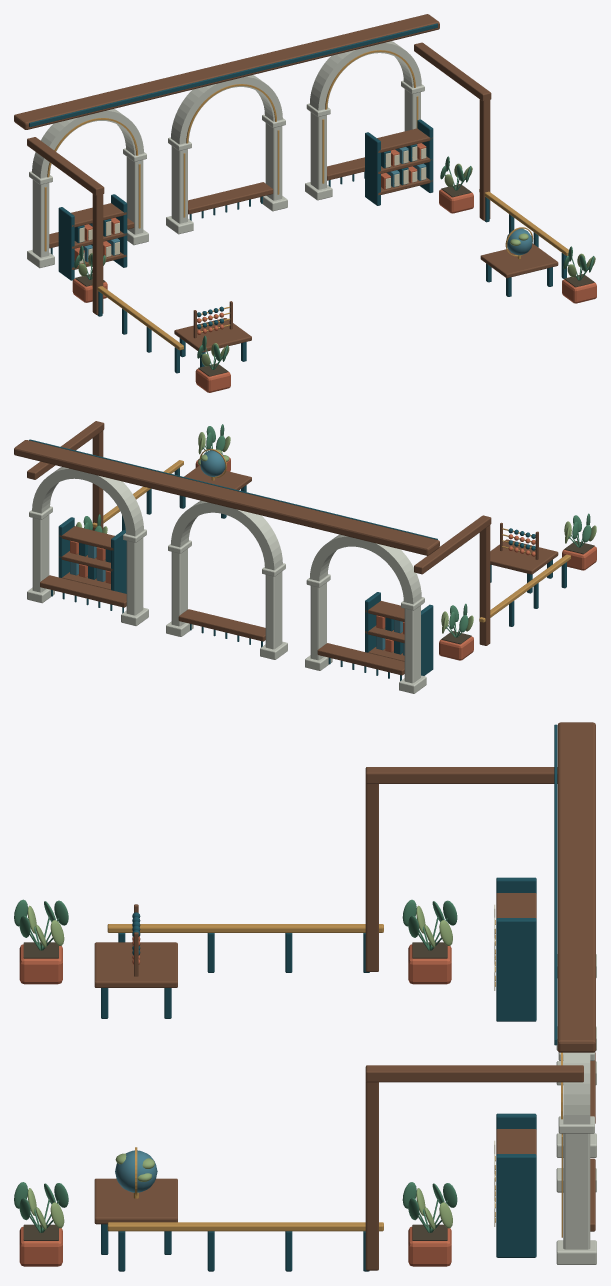
File: learning_studio.glb
3 renders of one model, top to bottom at view 1: azimuth 30°, elevation 25°; view 2: azimuth 150°, elevation 25°; view 3: azimuth 270°, elevation 25°, orthographic. The views are drawn at different scales.
Visible parts, largest first — view 1: StudioOakBatch, StudioStoneBatch, StudioTealBatch, StudioBrassBatch, StudioCoralBatch, StudioLeafBatch, StudioPaperBatch, StudioBlueBatch, StudioSoilBatch, StudioLeafLightBatch; view 2: StudioOakBatch, StudioStoneBatch, StudioTealBatch, StudioCoralBatch, StudioLeafBatch, StudioBrassBatch, StudioBlueBatch, StudioLeafLightBatch, StudioSoilBatch; view 3: StudioOakBatch, StudioTealBatch, StudioStoneBatch, StudioBrassBatch, StudioCoralBatch, StudioLeafBatch, StudioLeafLightBatch, StudioSoilBatch, StudioBlueBatch.
Part boxes in pixels (box(x1,y1,x2,y2)): StudioOakBatch: box(14, 14, 558, 352); StudioStoneBatch: box(27, 41, 424, 268); StudioTealBatch: box(29, 23, 566, 373); StudioBrassBatch: box(44, 50, 568, 350); StudioCoralBatch: box(72, 143, 596, 392); StudioLeafBatch: box(74, 156, 594, 369); StudioPaperBatch: box(79, 146, 426, 263); StudioBlueBatch: box(80, 147, 532, 261); StudioSoilBatch: box(75, 184, 594, 376); StudioLeafLightBatch: box(78, 163, 595, 366); StudioOakBatch: box(14, 421, 558, 675); StudioStoneBatch: box(27, 467, 426, 693); StudioTealBatch: box(29, 439, 566, 680); StudioCoralBatch: box(70, 457, 596, 660); StudioLeafBatch: box(83, 424, 591, 637); StudioBrassBatch: box(92, 449, 570, 622); StudioBlueBatch: box(70, 450, 404, 655); StudioLeafLightBatch: box(76, 432, 596, 633); StudioSoilBatch: box(198, 459, 594, 644); StudioOakBatch: box(94, 722, 595, 1270); StudioTealBatch: box(101, 724, 557, 1271); StudioStoneBatch: box(556, 954, 596, 1264); StudioBrassBatch: box(107, 920, 562, 1237); StudioCoralBatch: box(19, 926, 451, 1266); StudioLeafBatch: box(14, 899, 457, 1232); StudioLeafLightBatch: box(27, 905, 452, 1230); StudioSoilBatch: box(23, 942, 447, 1240); StudioBlueBatch: box(115, 1150, 157, 1192).
Size of the model in its own units: 13.15 by 4.6 by 10.12.
